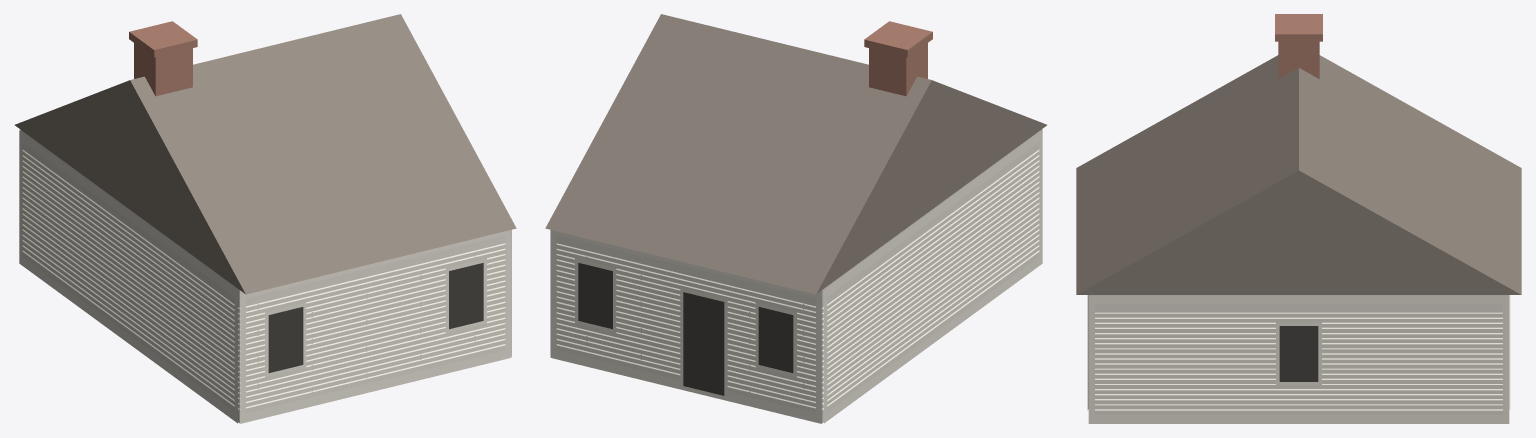
Rendered from recon_1835_west_031__inferred_1835.glb.
3 renders of one model, left to right at view 1: azimuth 30°, elevation 25°; view 2: azimuth 150°, elevation 25°; view 3: azimuth 270°, elevation 25°, orthographic. The views are drawn at different scales.
Parts seen in each view (by area): view 1: recon_1835_west_031__inferred_1835; view 2: recon_1835_west_031__inferred_1835; view 3: recon_1835_west_031__inferred_1835.
Boxes of the visible parts, <box> form: recon_1835_west_031__inferred_1835: <box>15,14,516,423</box>; recon_1835_west_031__inferred_1835: <box>545,14,1046,423</box>; recon_1835_west_031__inferred_1835: <box>1076,14,1521,423</box>.
Size of the model in its own units: 6.18 by 6.44 by 9.03.
